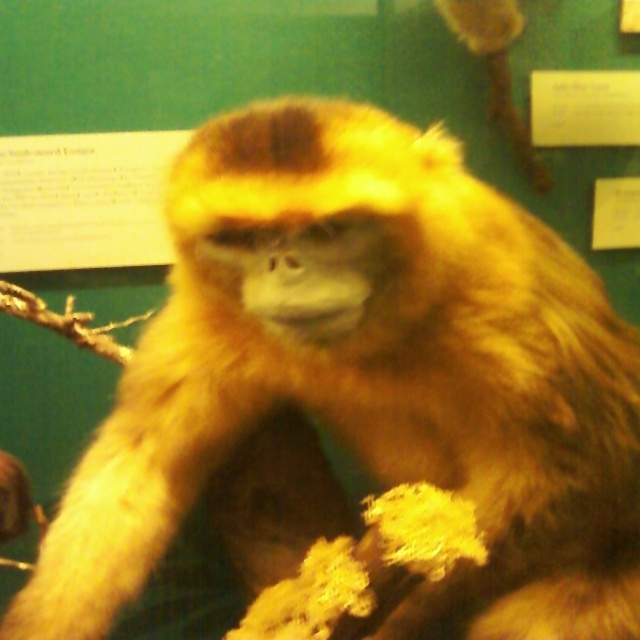Monkey: (0, 94, 639, 640)
